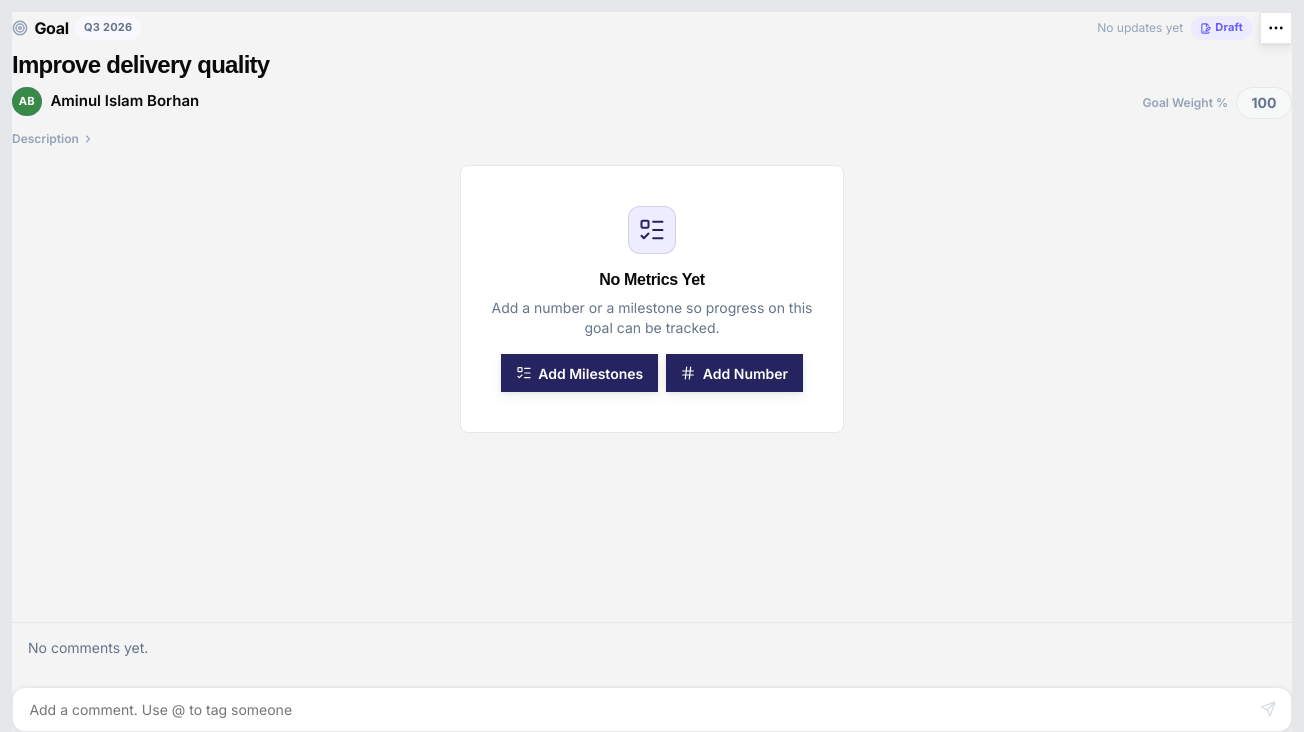
GoalDetailView › adds a number measure from the empty state
The image size is (1304, 732).
Click the button "Add Number" at (734, 373), box [666,354,803,392]
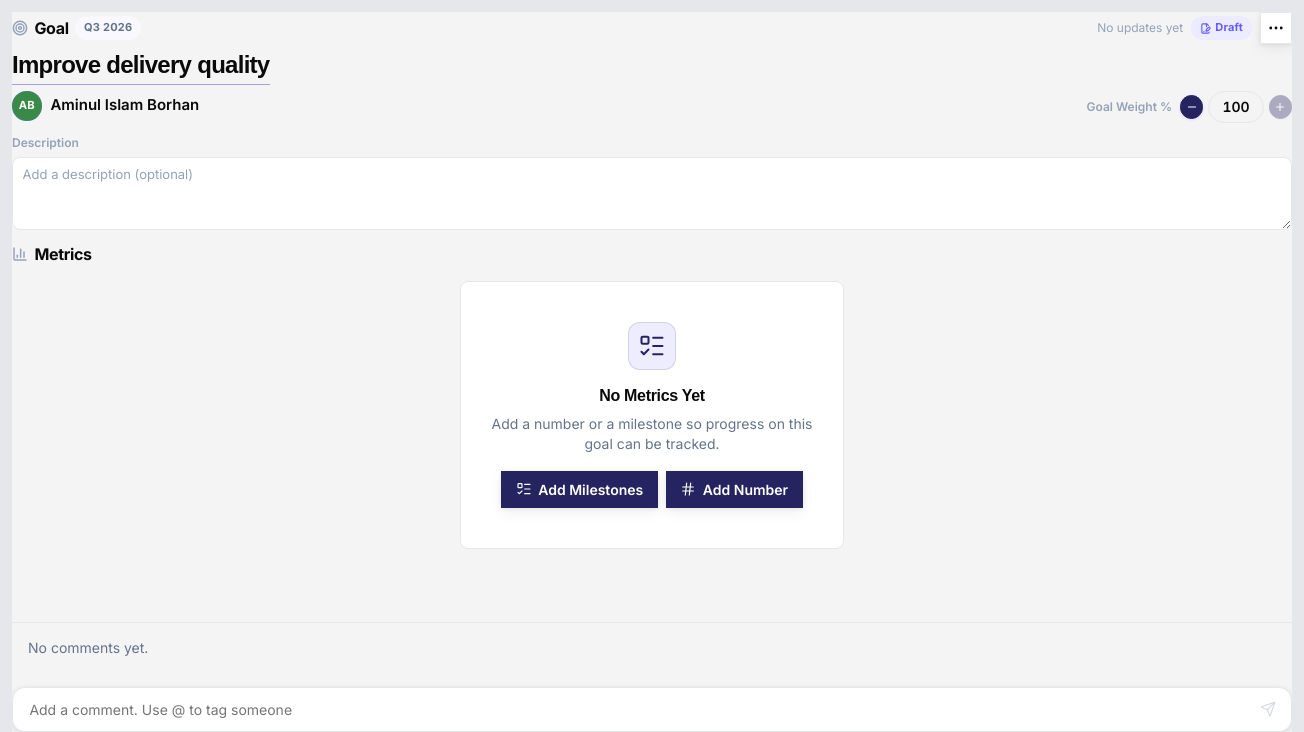
Hover over the element named "Goal actions" next to "Draft" at (1276, 28), box [1260,12,1292,44]
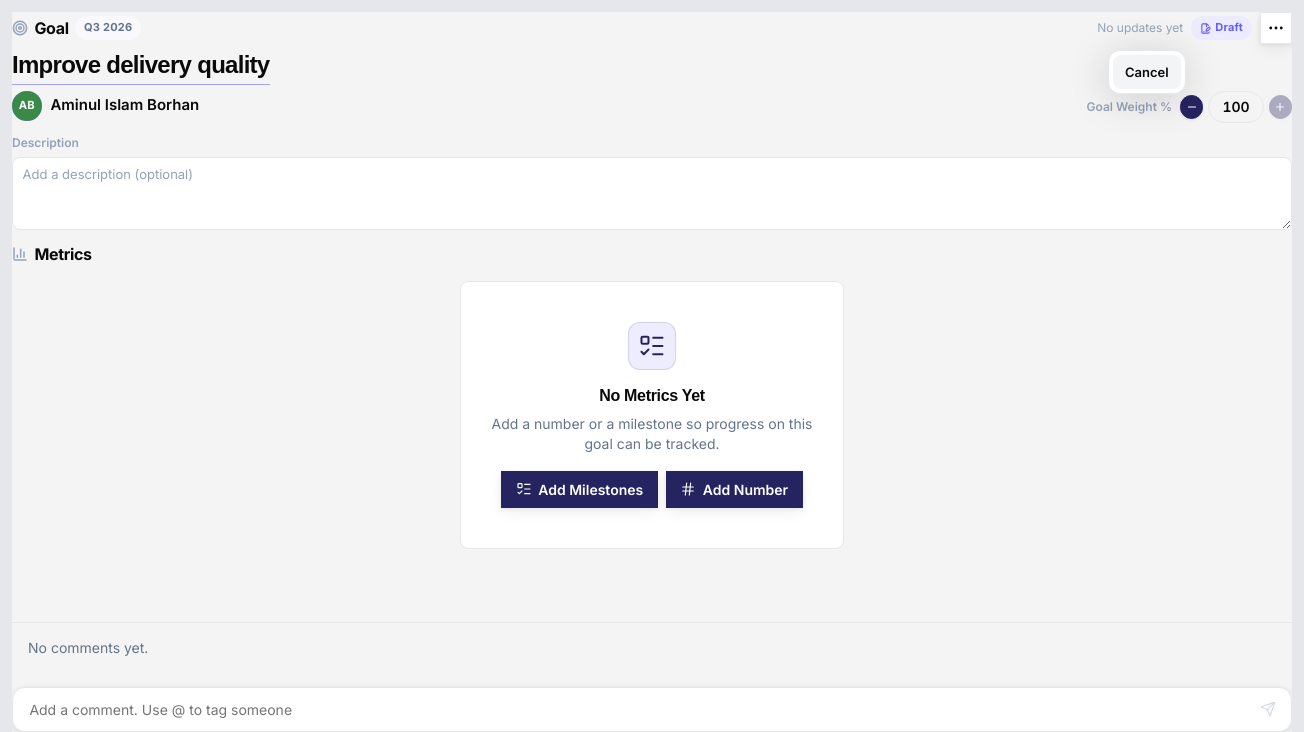
Now the menu item "Cancel" is shown, box [1113,55,1181,89]
